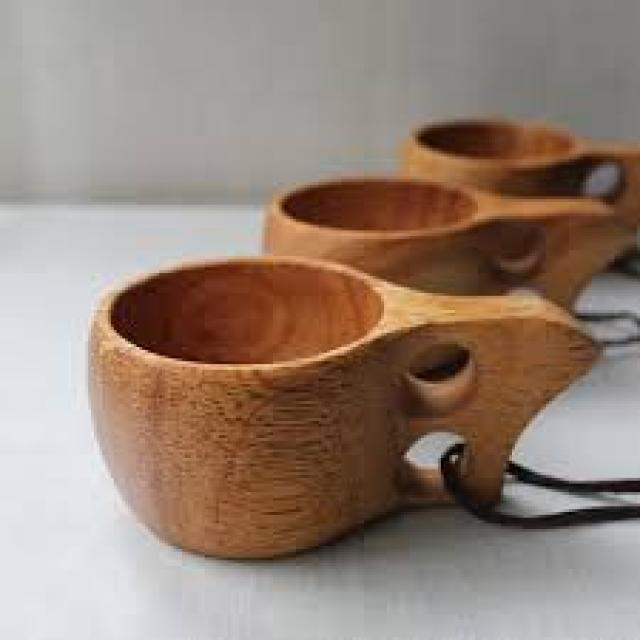taza: (81, 255, 597, 562), (253, 165, 622, 288)
